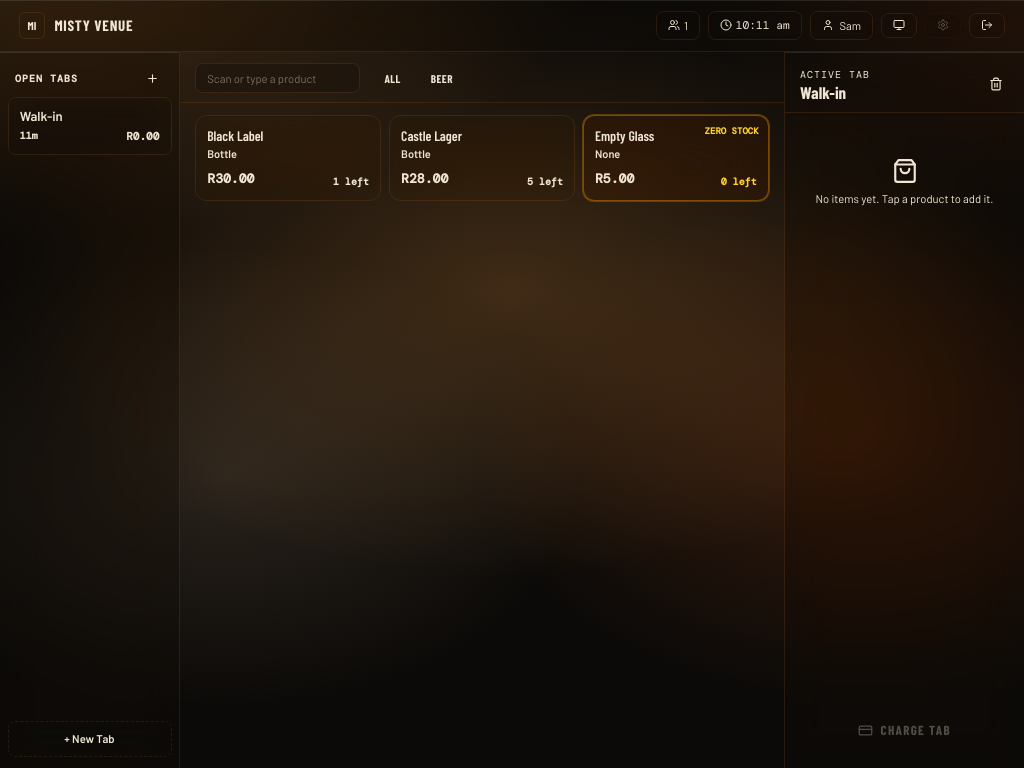
Test case: cart notifications › does not confirm a failed scan, an out-of-stock add, or a removal
In the field named "Scan product": (278, 78) [195, 63, 360, 93], type "Not A Drink"
Then press Enter
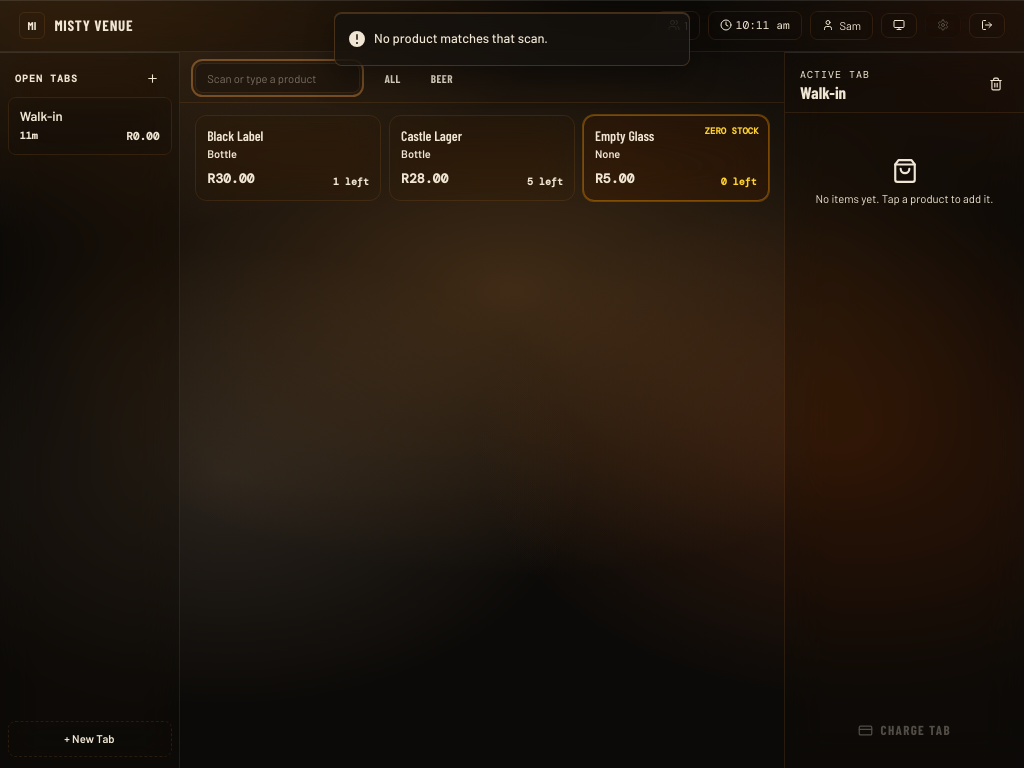
Check: the text "No product matches that scan." is shown, box [374, 29, 548, 48]
Click the button with aria-label "Add Black Label": click(288, 158) [195, 115, 381, 201]
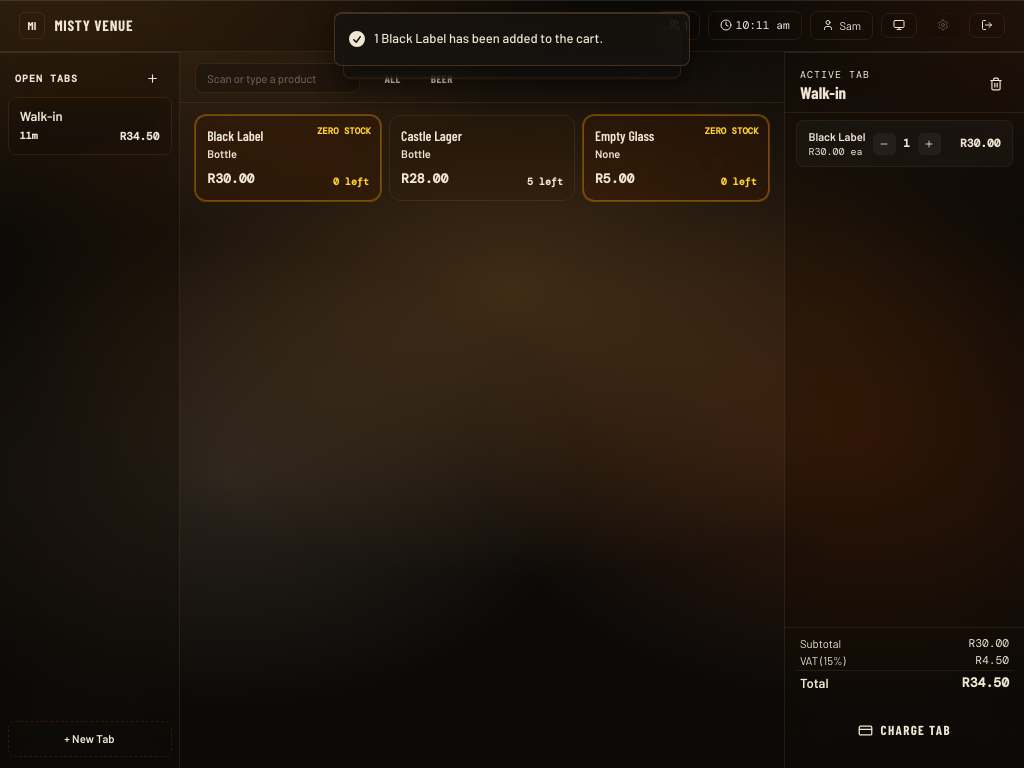
Check: the text "1 Black Label has been added to the cart." is shown, box [374, 29, 603, 48]
Check: the button with aria-label "Add Black Label" is disabled, box [195, 115, 381, 201]
In the field named "Scan product": (278, 78) [195, 63, 360, 93], type "Black Label"
Then press Enter
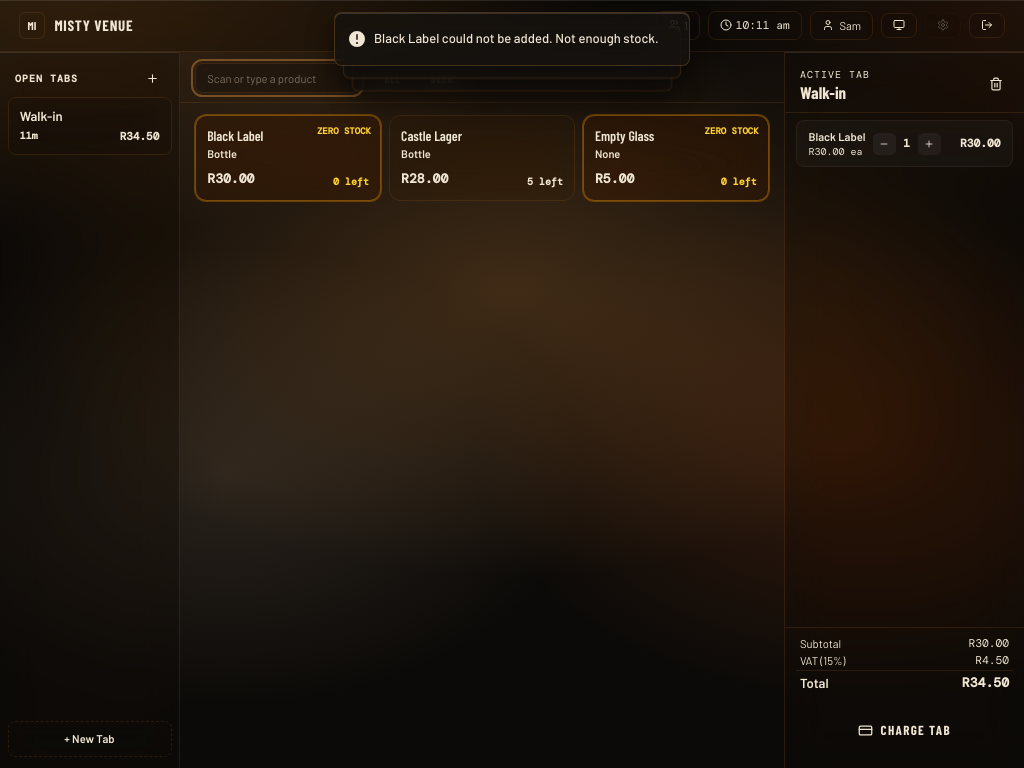
Check: the text named "Quantity 1" is shown, box [903, 136, 910, 150]
Check: the text "Black Label could not be added. Not enough stock." is shown, box [374, 29, 659, 48]
Click the button named "Remove one Black Label": click(884, 144) [873, 132, 896, 155]
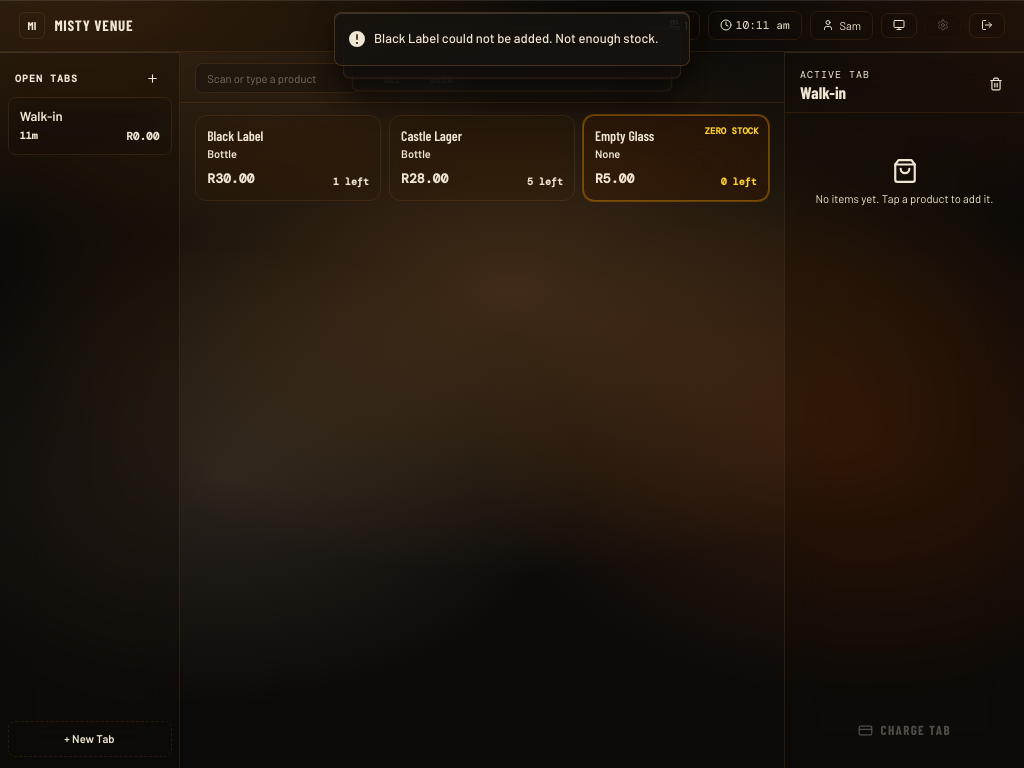
Click the button with aria-label "Add Castle Lager": click(482, 158) [389, 115, 575, 201]
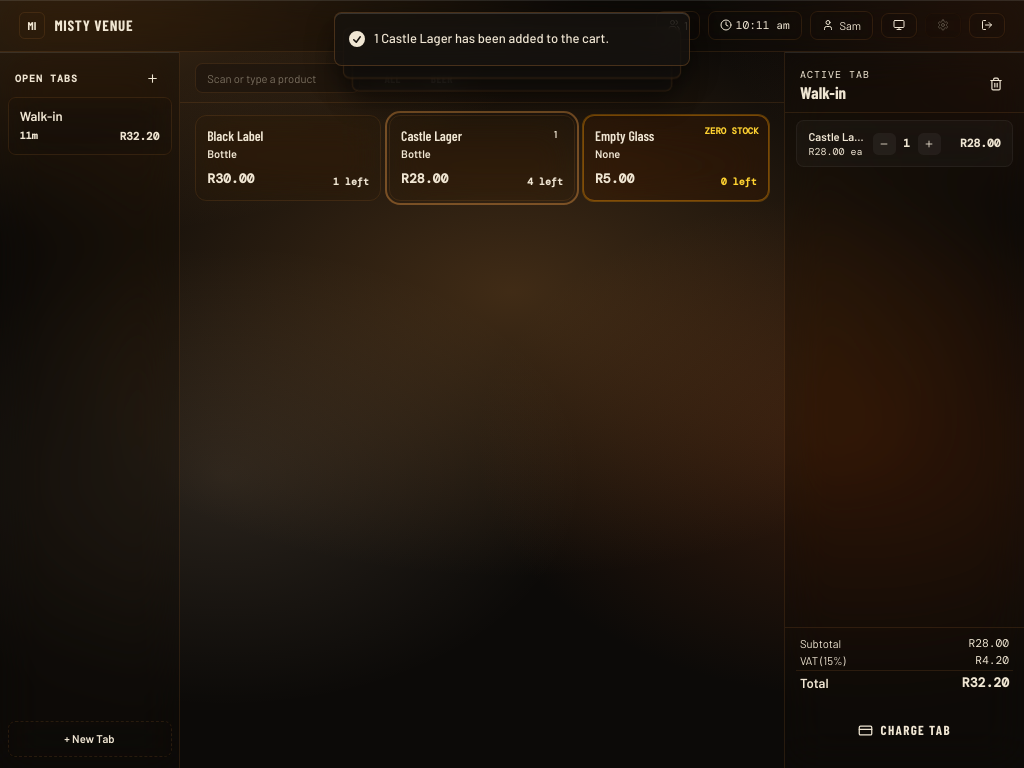
Click the button named "Add one Castle Lager": click(929, 144) [918, 132, 940, 155]
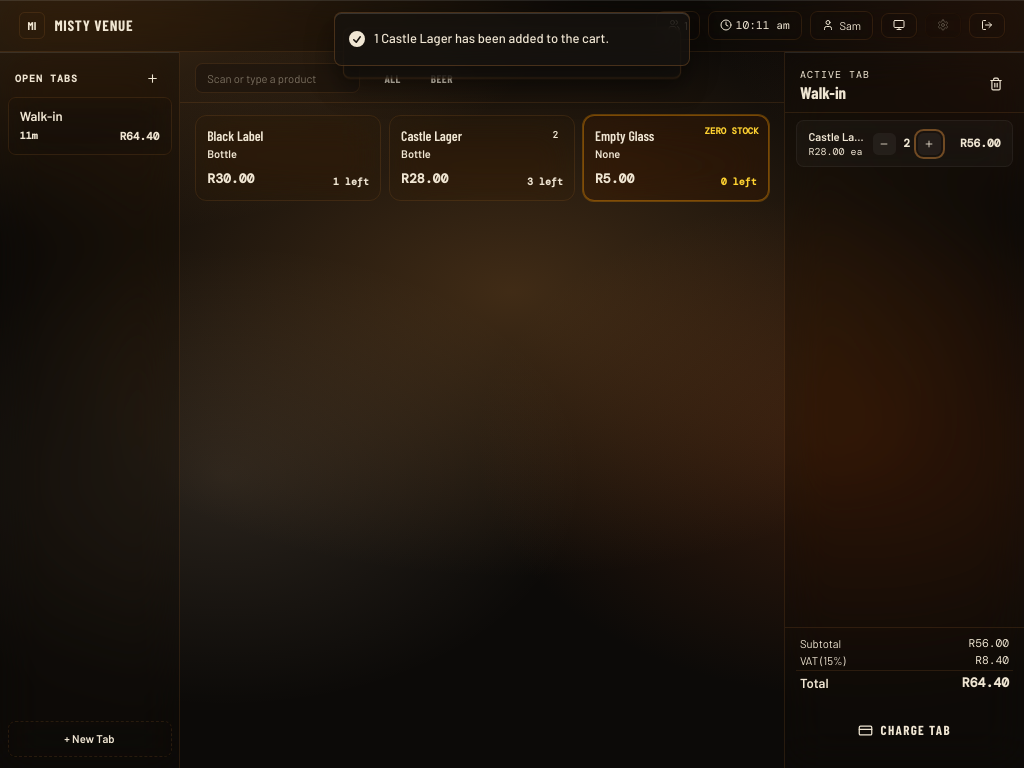
Check: the text "1 Castle Lager has been added to the cart." is shown 2 times
Check: the text named "Quantity 2" is shown, box [903, 136, 910, 150]
